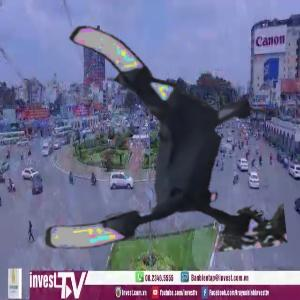drone: (34, 17, 278, 261)
